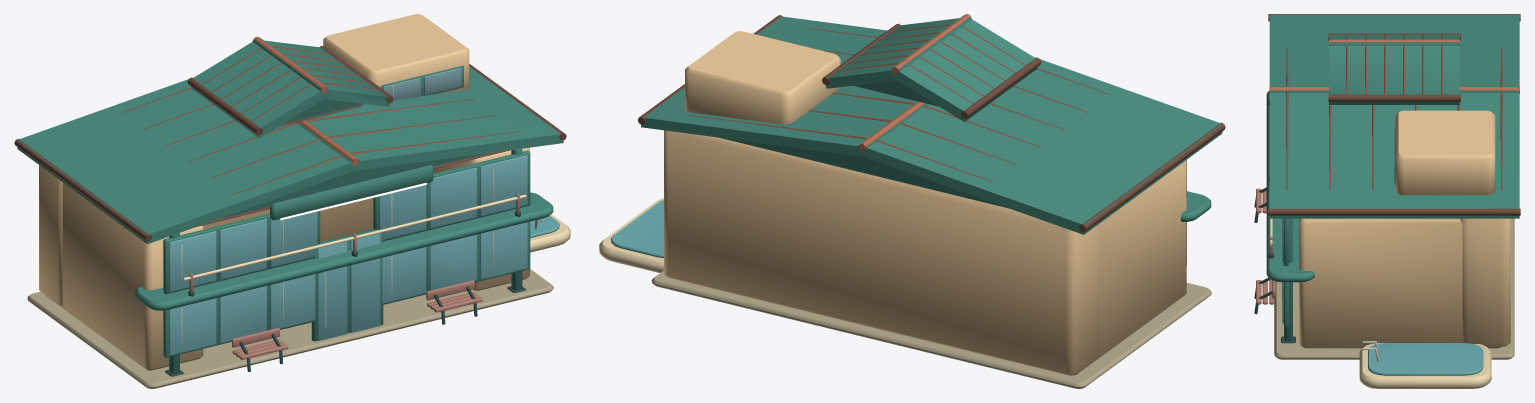
File: tropical_resort.glb
3 views of the same model, side by side, from view 1: azimuth 30°, elevation 25°; view 2: azimuth 150°, elevation 25°; view 3: azimuth 270°, elevation 25° (orthographic). The views are drawn at different scales.
Visible parts, largest first — view 1: TropicalResort; view 2: TropicalResort; view 3: TropicalResort.
Part boxes in pixels (<box>): TropicalResort: <box>14,14,570,388</box>; TropicalResort: <box>599,14,1225,388</box>; TropicalResort: <box>1254,14,1520,388</box>.
Size of the model in its own units: 14.69 by 6.85 by 7.34.
